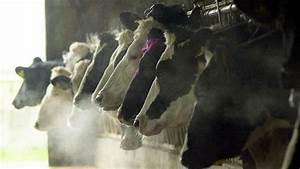cow: (179, 26, 290, 169), (135, 26, 202, 136), (93, 20, 149, 113), (9, 50, 49, 113)
